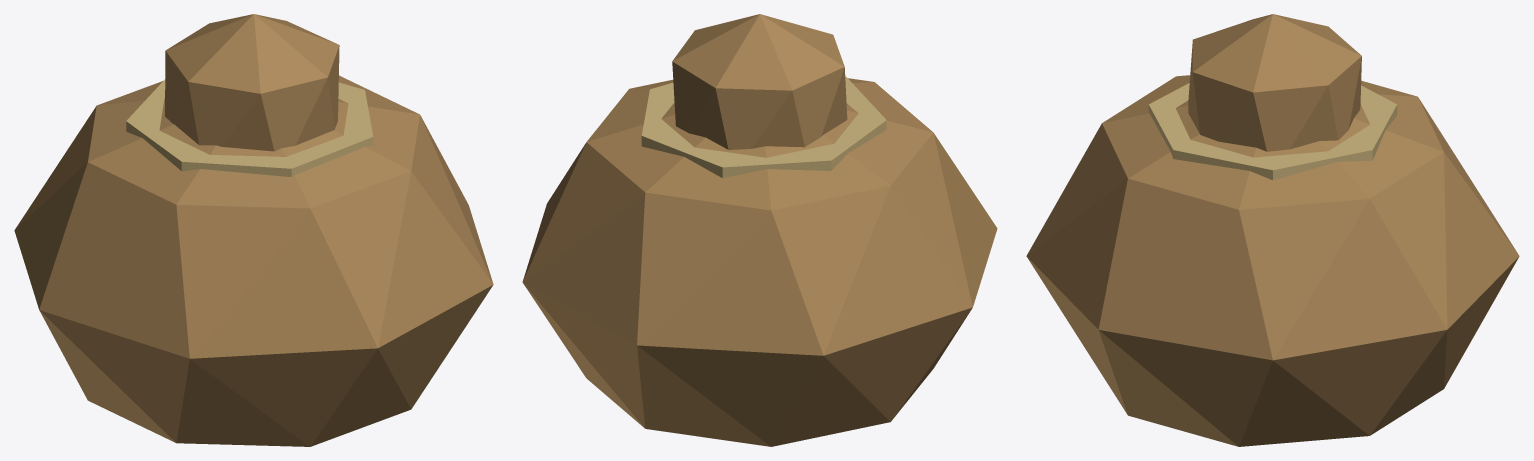
Rendered from drop_bundle.glb.
3 renders of one model, left to right at view 1: azimuth 30°, elevation 25°; view 2: azimuth 150°, elevation 25°; view 3: azimuth 270°, elevation 25°, orthographic.
Visible parts, largest first — view 1: drop_bundle; view 2: drop_bundle; view 3: drop_bundle.
Boxes of the visible parts, bbox=[...] form: drop_bundle: bbox=[14, 14, 493, 446]; drop_bundle: bbox=[522, 14, 997, 446]; drop_bundle: bbox=[1026, 14, 1519, 446].
Size of the model in its own units: 0.24 by 0.22 by 0.24.
